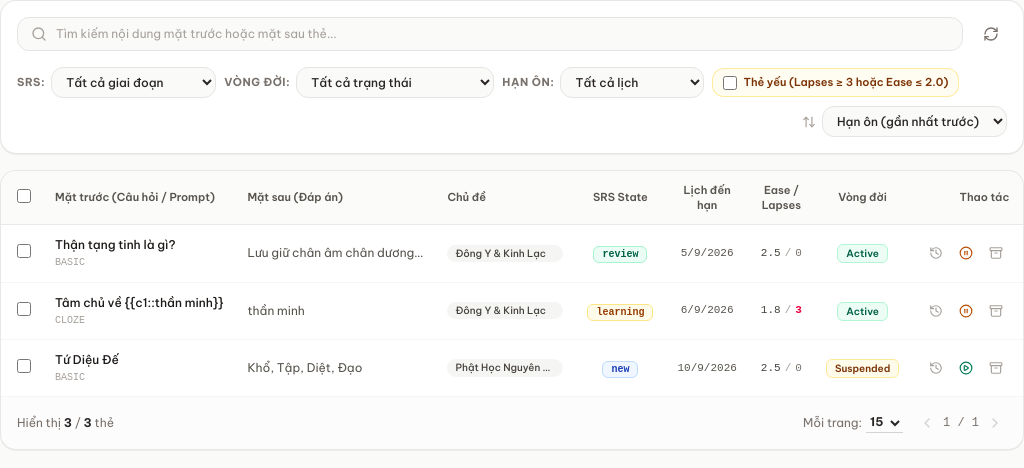
Test: Phase F6.5 — Card Browser Component (CardBrowser.tsx) › 3. filters table by lifecycleStatus dropdown
Select "Đã tạm hoãn (Suspended)" in the dropdown with test id "select-filter-lifecycle": (395, 82) [296, 67, 494, 98]
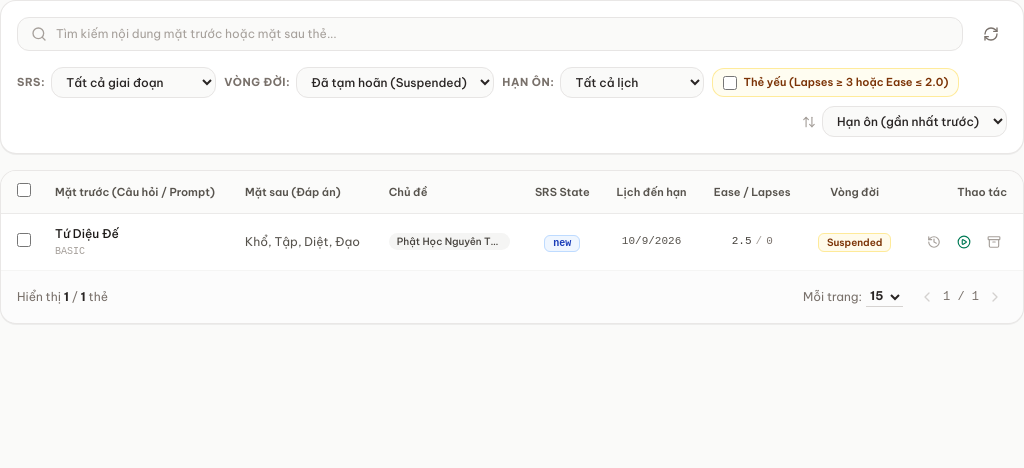
Expected: the row with test id "card-row-c-3" is shown, [1, 213, 1023, 270]
Now the row with test id "card-row-c-1" is gone
